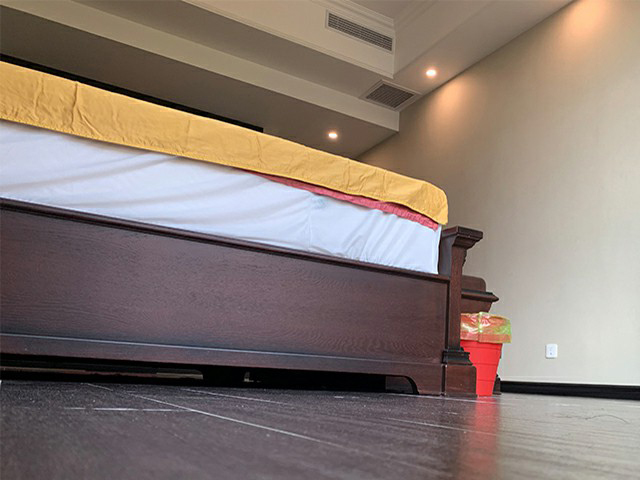bed: (1, 60, 484, 399)
trashcan: (460, 311, 511, 397)
